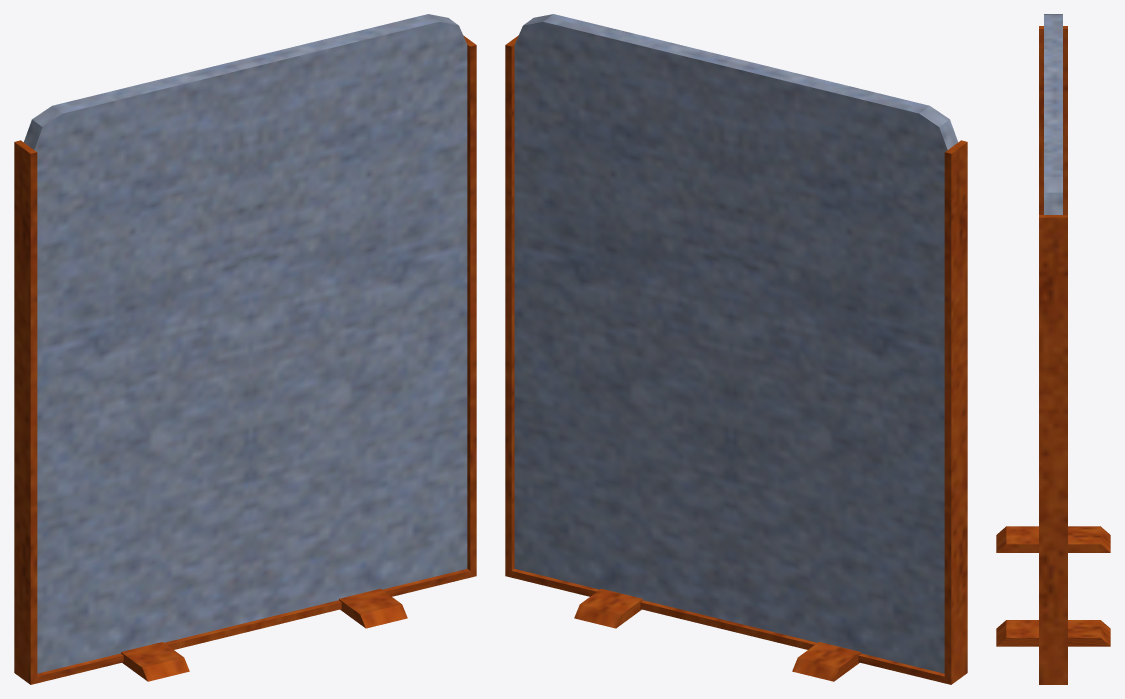
File: divider_veneer_blue_half.obj
3 views of the same model, side by side, from view 1: azimuth 30°, elevation 25°; view 2: azimuth 150°, elevation 25°; view 3: azimuth 270°, elevation 25° (orthographic). The views are drawn at different scales.
Visible parts, largest first — view 1: divider_veneer_blue_half; view 2: divider_veneer_blue_half; view 3: divider_veneer_blue_half.
Part boxes in pixels (bbox=[...]): divider_veneer_blue_half: bbox=[14, 14, 476, 684]; divider_veneer_blue_half: bbox=[505, 14, 967, 684]; divider_veneer_blue_half: bbox=[996, 14, 1110, 684].
Bounding box in the file's own units: 2.07 × 2.5 × 0.523.
